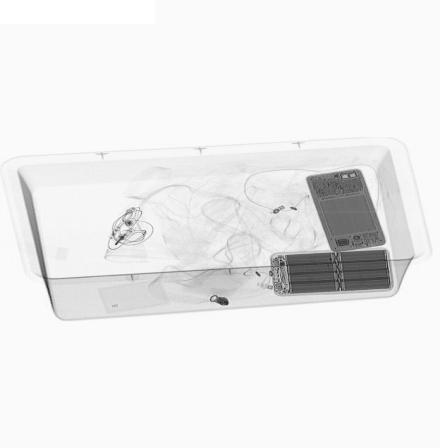Powerbank: (269, 248, 396, 297)
